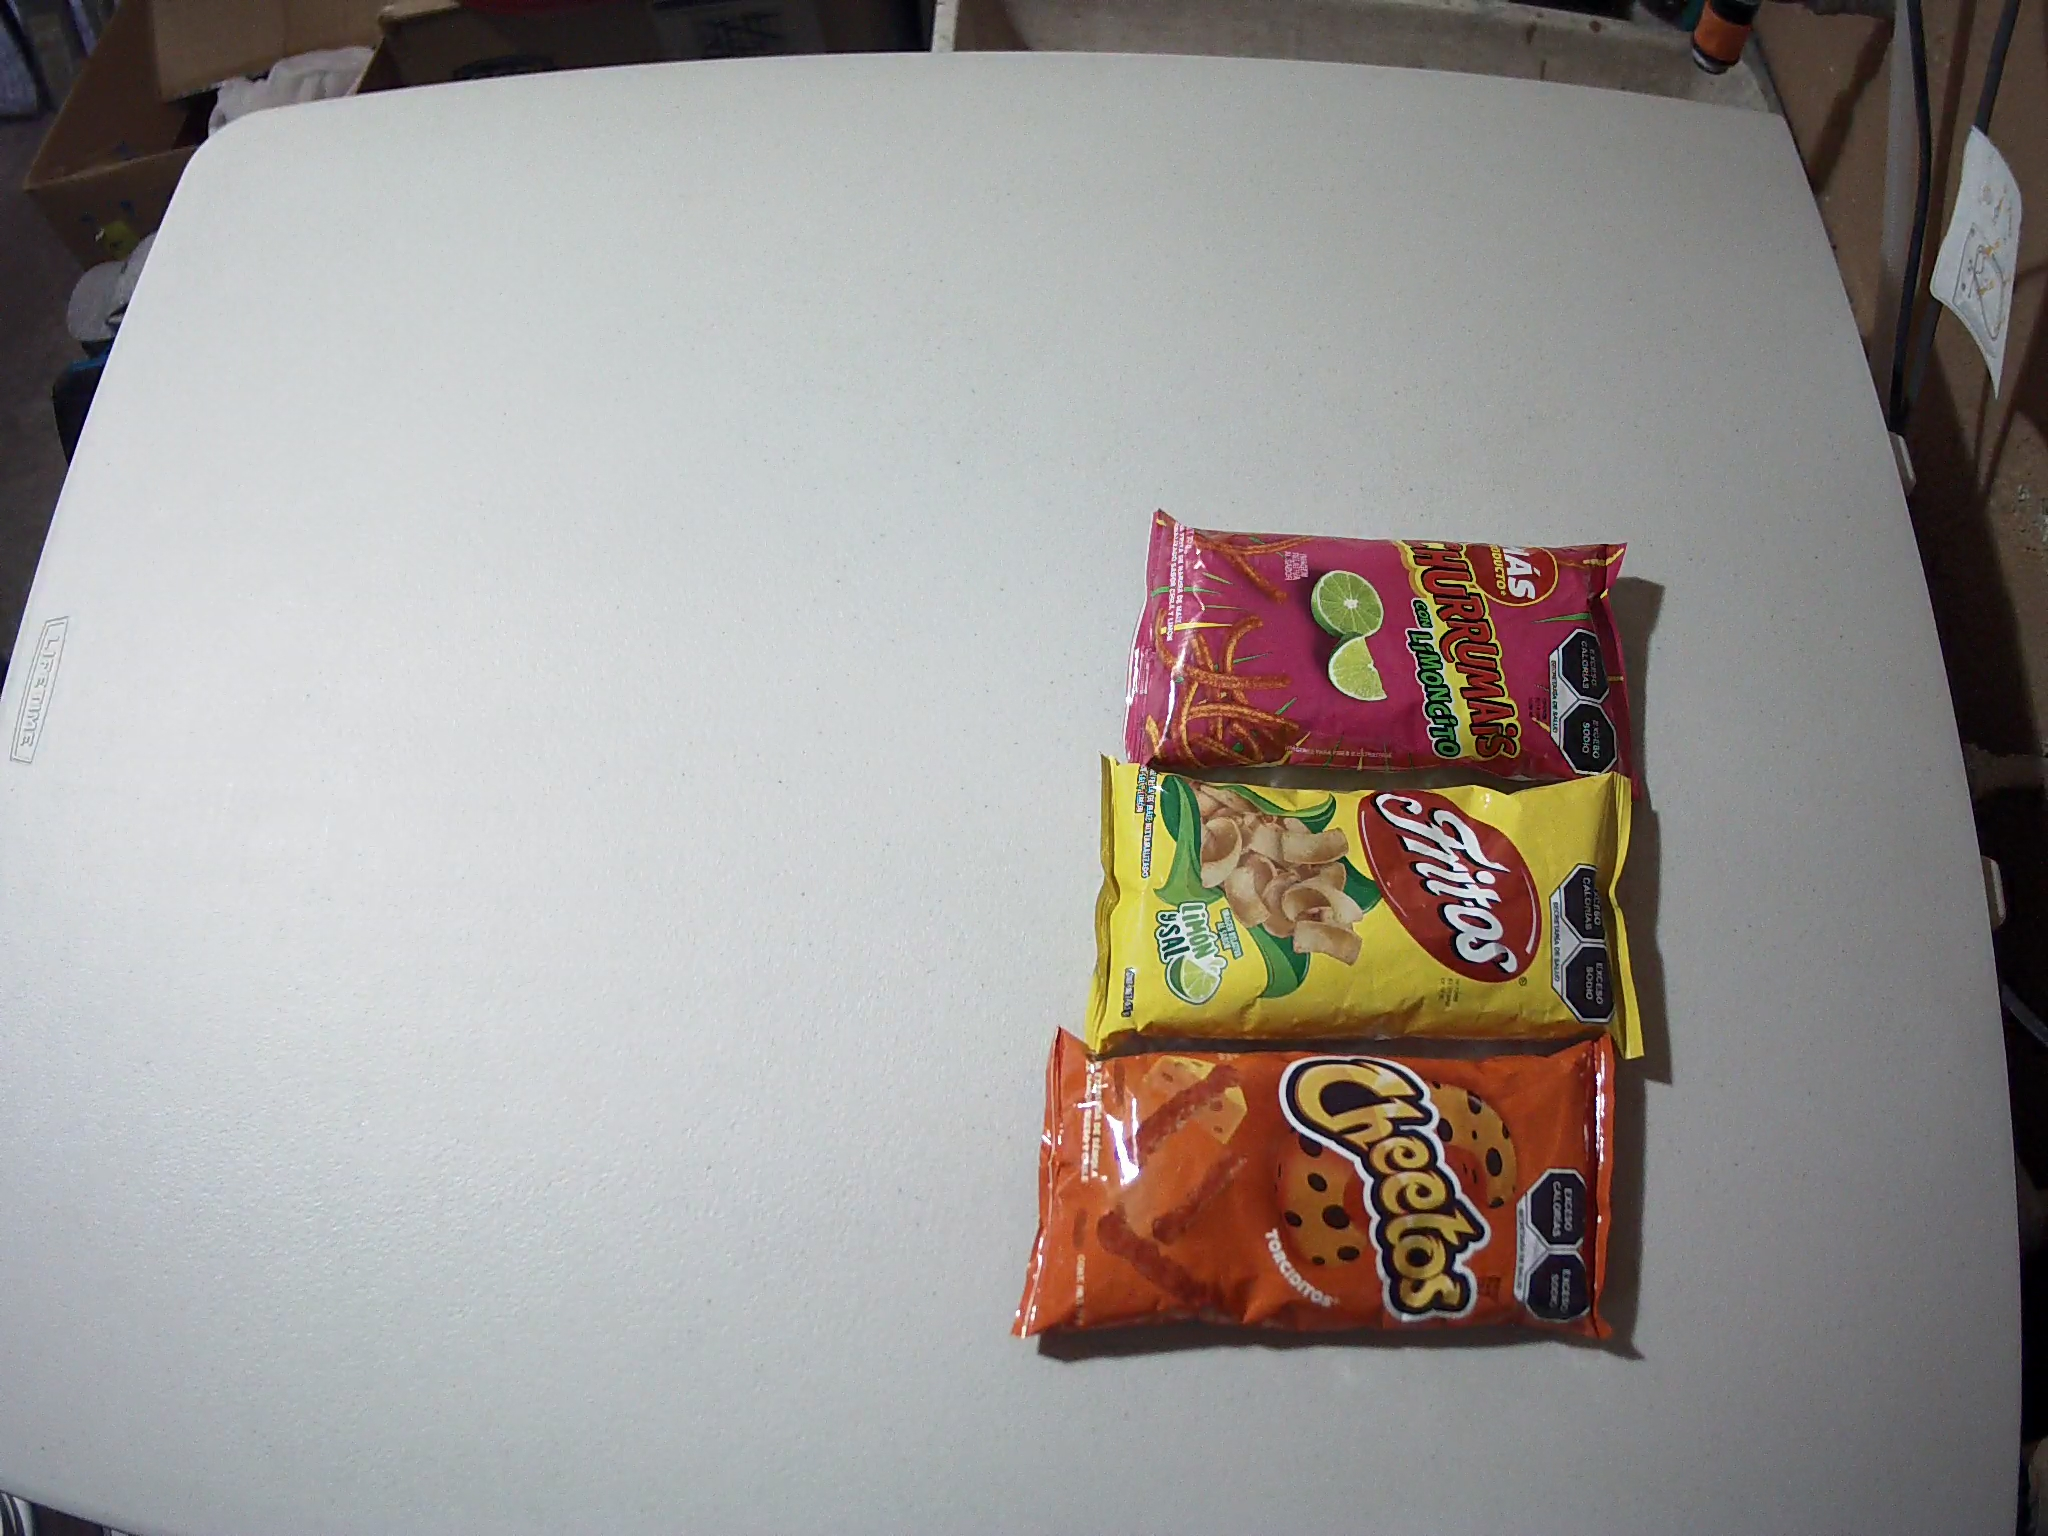CheetosTorciditos_55_F: (1008, 1026, 1621, 1346)
Churrumais_70_F: (1124, 507, 1630, 781)
FritosSalLimon_65_F: (1084, 752, 1653, 1063)
